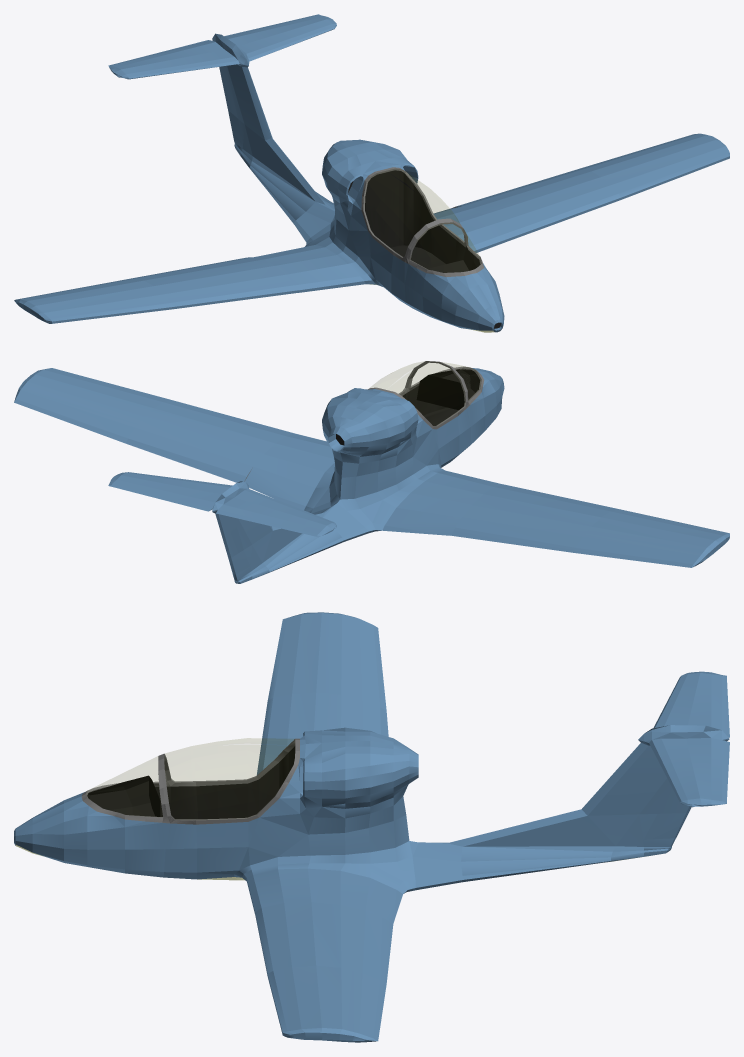
The model's file is Aircraft_1.glb.
The picture shows the model from 3 angles, top to bottom: view 1: azimuth 30°, elevation 25°; view 2: azimuth 150°, elevation 25°; view 3: azimuth 270°, elevation 25°; orthographic projection. The views are drawn at different scales.
Visible parts, largest first — view 1: fuselage, wing middle left, wing middle right, wing outer left, wing outer right, elevator, canopy, rudder; view 2: fuselage, wing middle left, wing middle right, wing outer left, wing outer right, aileron left, aileron right, elevator, rudder, canopy; view 3: fuselage, wing middle left, wing outer right, wing outer left, wing middle right, canopy, aileron right, elevator, aileron left, rudder.
Boxes of the visible parts, x1=… form: fuselage: x1=111, y1=17, x2=506, y2=332; wing middle left: x1=452, y1=169, x2=620, y2=241; wing middle right: x1=129, y1=257, x2=297, y2=309; wing outer left: x1=586, y1=134, x2=729, y2=199; wing outer right: x1=19, y1=279, x2=173, y2=323; elevator: x1=108, y1=14, x2=326, y2=70; canopy: x1=409, y1=174, x2=478, y2=254; rudder: x1=219, y1=66, x2=242, y2=142; fuselage: x1=112, y1=361, x2=504, y2=583; wing middle left: x1=126, y1=400, x2=294, y2=482; wing middle right: x1=451, y1=484, x2=617, y2=552; wing outer left: x1=19, y1=368, x2=170, y2=423; wing outer right: x1=586, y1=509, x2=729, y2=559; aileron left: x1=14, y1=387, x2=138, y2=443; aileron right: x1=573, y1=533, x2=705, y2=567; elevator: x1=108, y1=479, x2=327, y2=537; rudder: x1=216, y1=515, x2=249, y2=574; canopy: x1=370, y1=362, x2=460, y2=392; fuselage: x1=14, y1=671, x2=729, y2=923; wing middle left: x1=255, y1=902, x2=393, y2=983; wing outer right: x1=267, y1=612, x2=354, y2=700; wing outer left: x1=267, y1=965, x2=354, y2=1042; wing middle right: x1=256, y1=692, x2=388, y2=775; canopy: x1=96, y1=738, x2=293, y2=786; aileron right: x1=354, y1=617, x2=386, y2=710; elevator: x1=711, y1=672, x2=729, y2=805; aileron left: x1=354, y1=971, x2=386, y2=1042; rudder: x1=644, y1=787, x2=691, y2=839.
Bounding box in the file's own units: 11.91 × 2.04 × 8.57.
